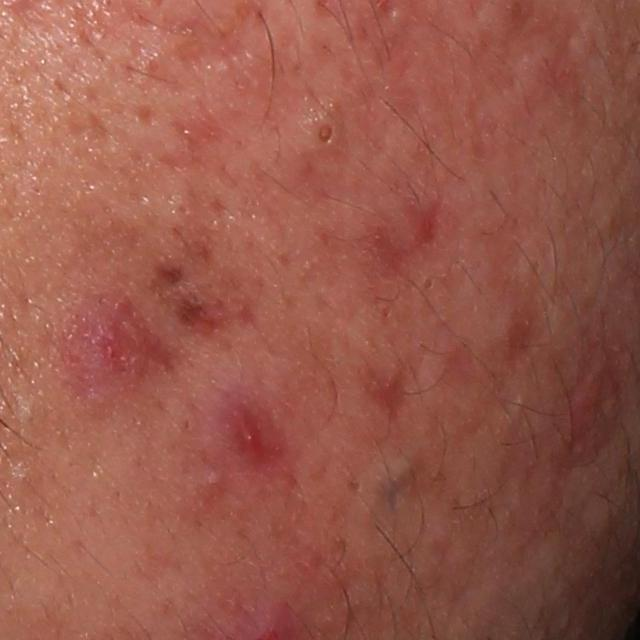atrophic_scar: (368, 195, 470, 290), (501, 301, 552, 367), (368, 363, 418, 423), (165, 293, 225, 338), (145, 263, 188, 293)
comedo: (296, 99, 345, 159)
papule: (45, 283, 165, 408), (213, 391, 274, 469)
